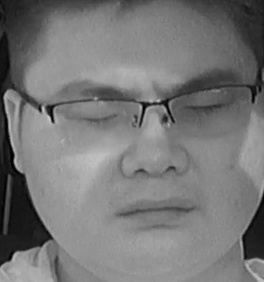blink: (184, 101, 221, 115), (82, 111, 118, 124)
glass: (166, 84, 256, 136), (50, 97, 142, 147)
mouth: (111, 191, 193, 230)
